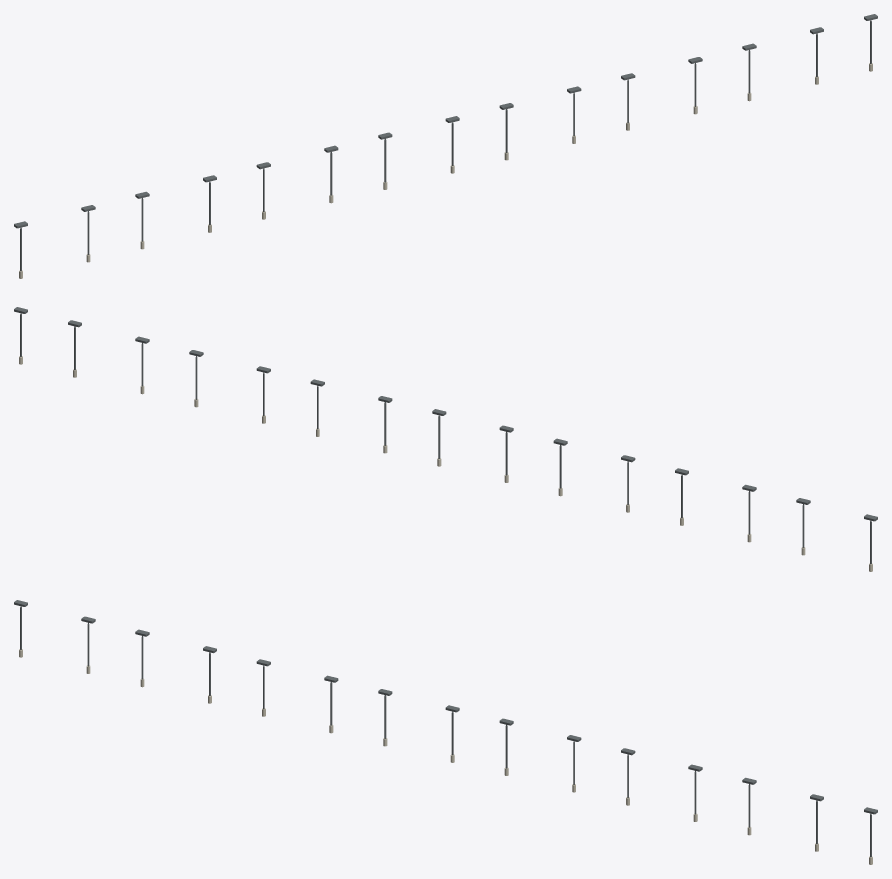
3 views of the same model, one above another, from view 1: azimuth 30°, elevation 25°; view 2: azimuth 150°, elevation 25°; view 3: azimuth 330°, elevation 25° (orthographic).
Parts seen in each view (by area): view 1: buildings_s_-5_-1_Dark_Metal, buildings_s_-5_-1_Warm_Limestone; view 2: buildings_s_-5_-1_Dark_Metal, buildings_s_-5_-1_Warm_Limestone; view 3: buildings_s_-5_-1_Dark_Metal, buildings_s_-5_-1_Warm_Limestone.
Part boxes in pixels (x1,y1,x2,y2): buildings_s_-5_-1_Dark_Metal: (14,14,877,271); buildings_s_-5_-1_Warm_Limestone: (19,63,872,278); buildings_s_-5_-1_Dark_Metal: (14,307,877,564); buildings_s_-5_-1_Warm_Limestone: (19,356,872,571); buildings_s_-5_-1_Dark_Metal: (14,600,877,857); buildings_s_-5_-1_Warm_Limestone: (19,649,872,864).
Size of the model in its own units: 128 by 7.68 by 0.9.
